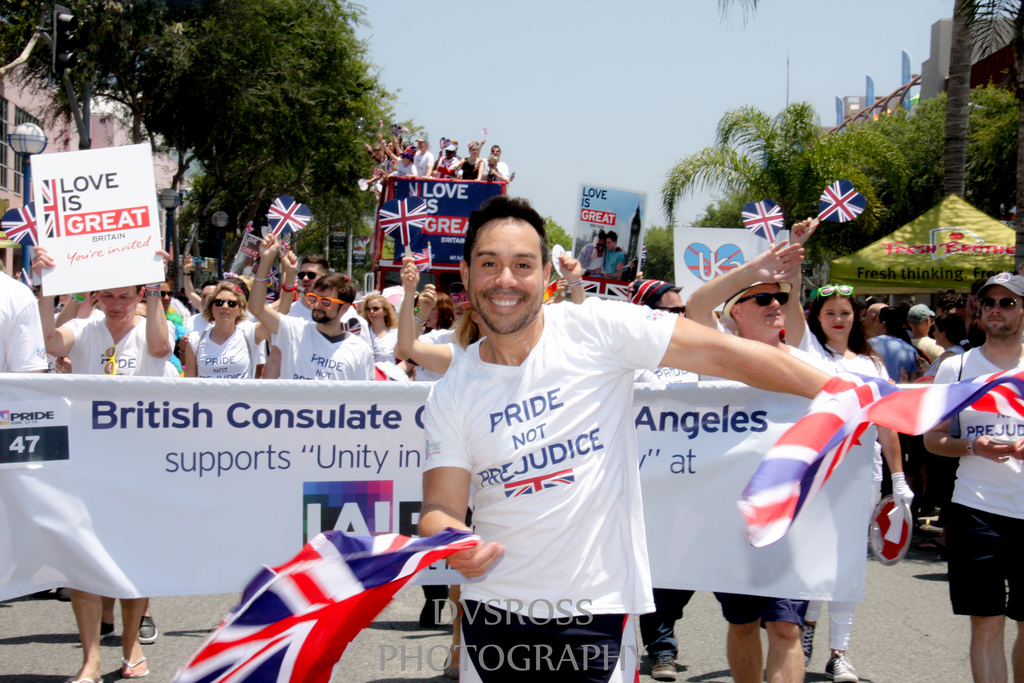Footwear: (418, 586, 449, 625), (822, 652, 861, 682), (119, 654, 149, 677), (649, 655, 676, 678), (137, 613, 157, 644), (801, 623, 814, 667), (442, 662, 460, 680), (99, 620, 116, 638), (69, 678, 103, 682)
